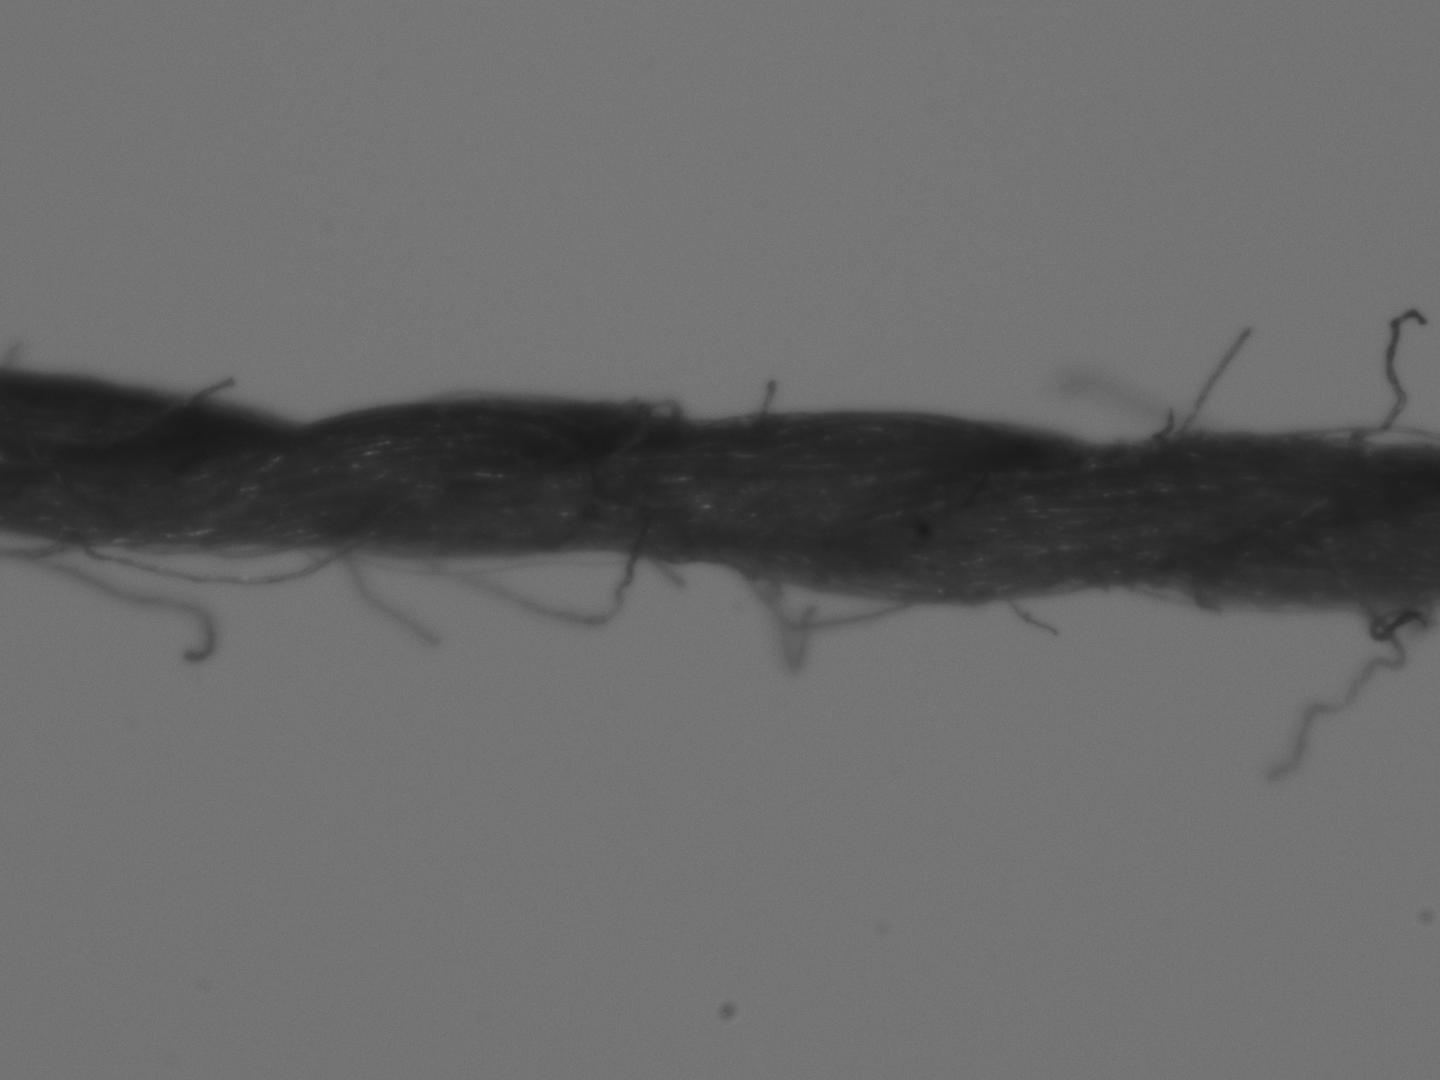loop_fiber: (365, 547, 644, 632), (702, 559, 917, 667), (69, 540, 359, 589), (1356, 606, 1439, 638)
protruding_fiber: (0, 532, 213, 659), (1263, 598, 1406, 779), (1354, 307, 1434, 444), (1162, 326, 1252, 440), (345, 539, 434, 650), (996, 594, 1064, 640), (753, 376, 779, 422)
